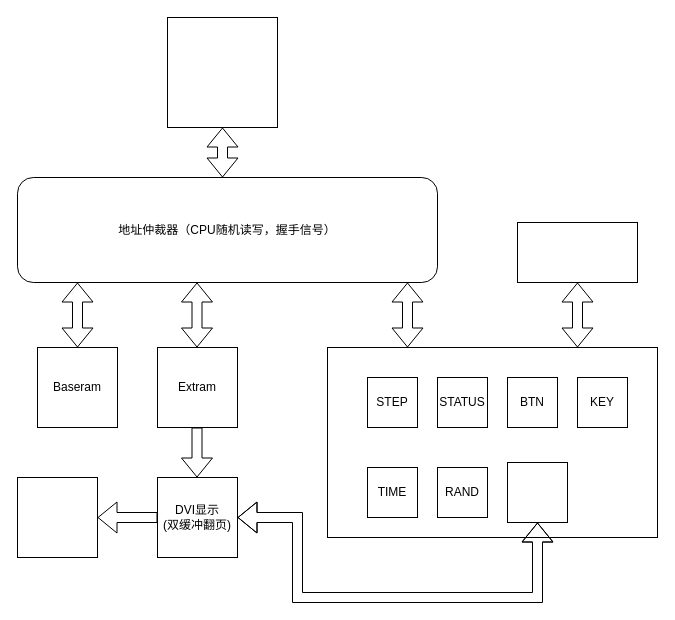
Some shapes in this 675 by 620 pixel diagram are drawn without their labels. Here are the shapes that lost their labels. From the top down, the box of each, then its label:
(166, 16, 278, 128): CPU（IP）
(516, 222, 638, 282): 16个LED，2个数码管，4个按钮，32位拨码开关
(326, 346, 658, 538): confreg
(506, 462, 568, 522): FB_CTRL
(16, 476, 98, 558): 板卡显示屏
